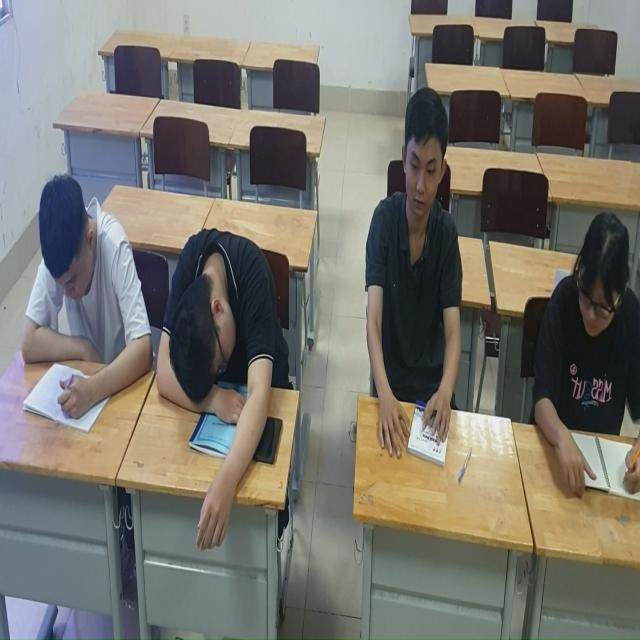read: (514, 187, 640, 485), (19, 165, 158, 429), (364, 86, 463, 452)
sleep: (155, 211, 282, 577)
